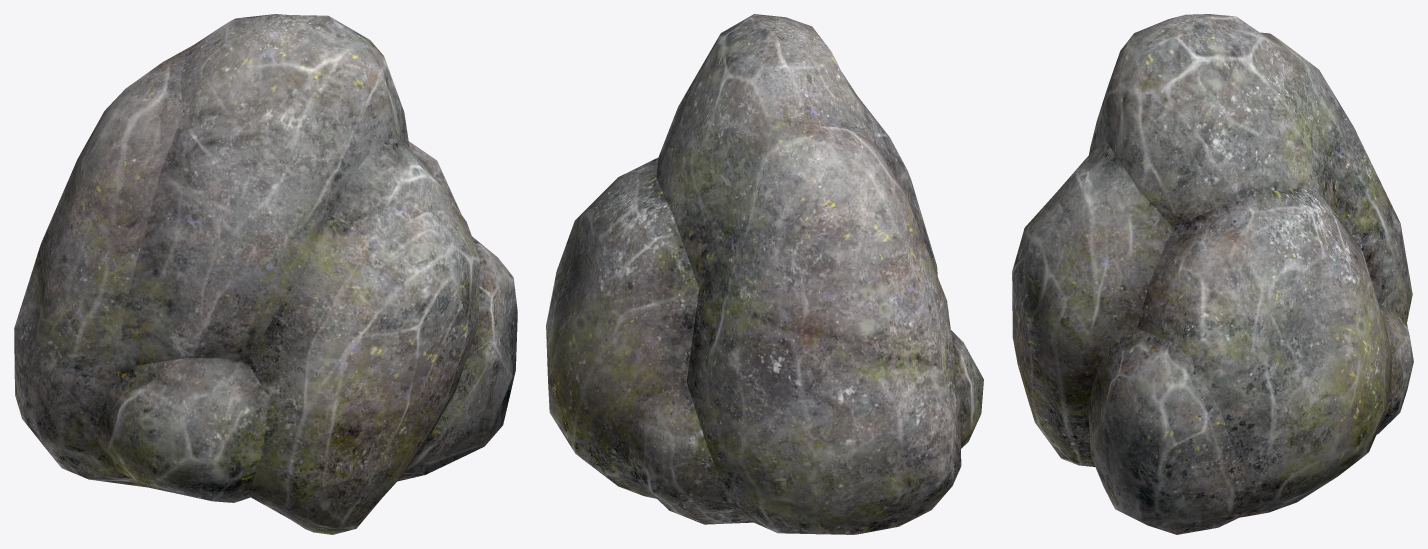
3 renders of one model, left to right at view 1: azimuth 30°, elevation 25°; view 2: azimuth 150°, elevation 25°; view 3: azimuth 270°, elevation 25°, orthographic. The views are drawn at different scales.
Visible parts, largest first — view 1: SM_Small_Boulder_02_LOD0; view 2: SM_Small_Boulder_02_LOD0; view 3: SM_Small_Boulder_02_LOD0.
Part boxes in pixels (x1,y1,x2,y2): SM_Small_Boulder_02_LOD0: [14, 14, 517, 534]; SM_Small_Boulder_02_LOD0: [546, 14, 983, 534]; SM_Small_Boulder_02_LOD0: [1012, 14, 1413, 534].
Bounding box in the file's own units: 1.77 × 1.86 × 1.49.
1 material, 1 textured.
